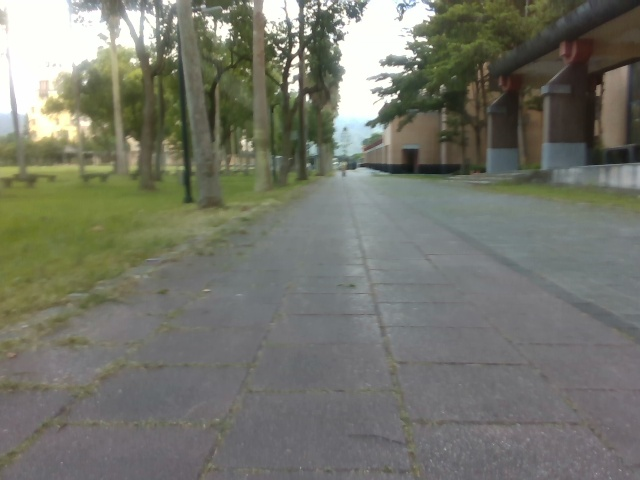grass: (0, 0, 372, 209), (0, 165, 319, 329), (365, 0, 580, 172), (371, 173, 639, 212)
road: (0, 173, 639, 479)
